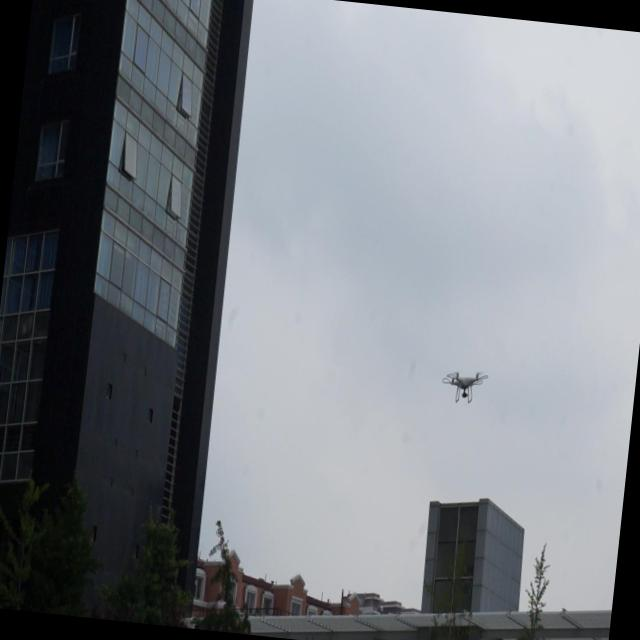drone: (438, 362, 490, 411)
